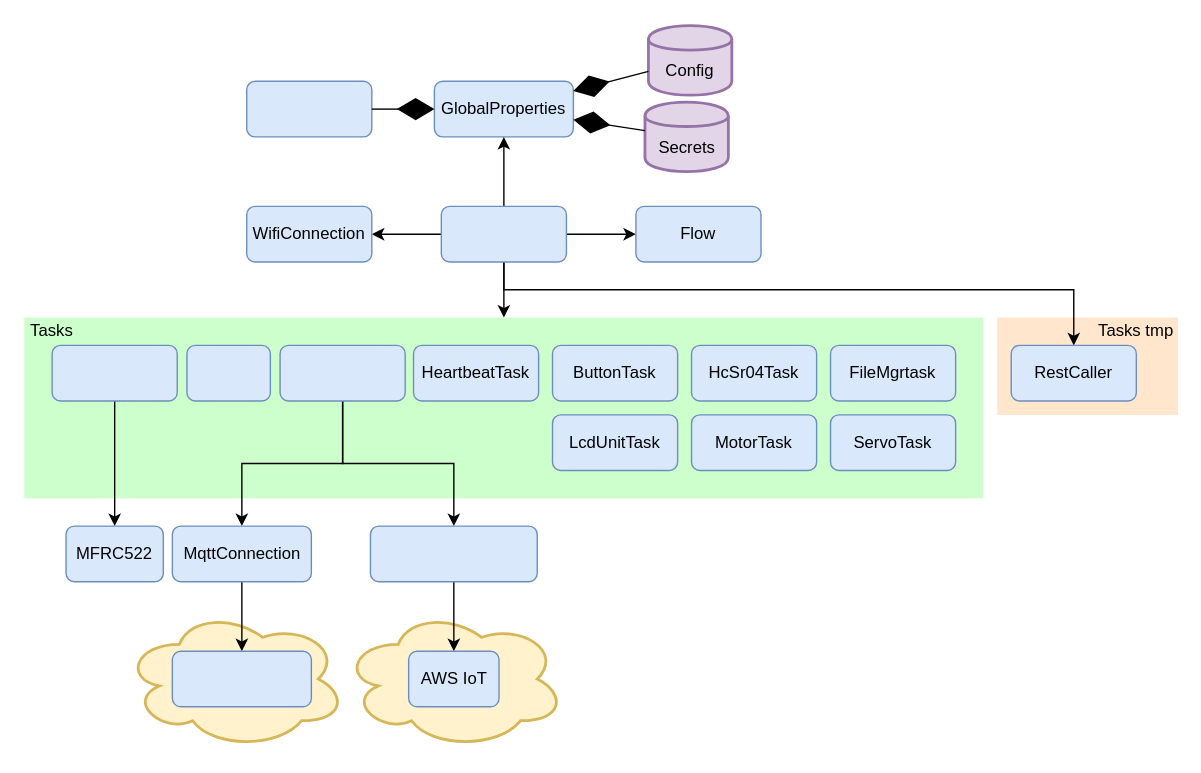
Image size: 1201x773. Some labels were removed from this diagram. Each missing label, with the centre of its shape:
"Boot" goes at (x=503, y=233).
"EventBus" goes at (x=308, y=108).
"LedTask" goes at (x=228, y=372).
"MQTT Server" goes at (x=241, y=678).
"MqttAwsConnection" goes at (x=453, y=553).
"MqttTask" goes at (x=342, y=372).
"RfidTask" goes at (x=114, y=372).
